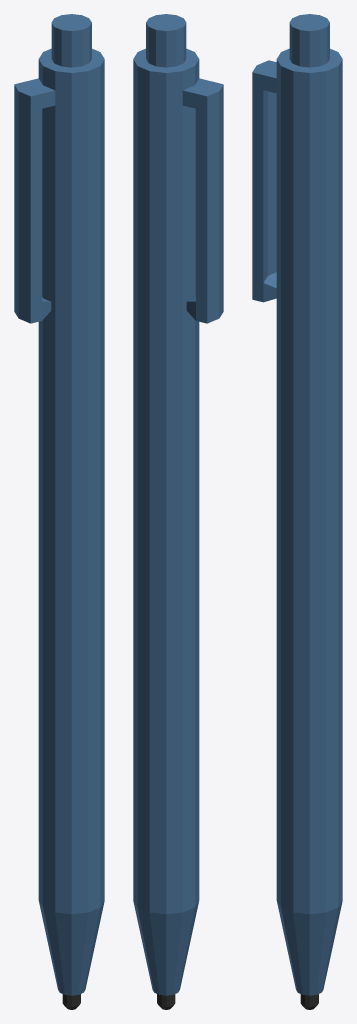
File: 69c91bc3-aab8-4af8-ae02-8dbe3d71ae62.glb
The picture shows the model from 3 angles, left to right: view 1: azimuth 30°, elevation 25°; view 2: azimuth 150°, elevation 25°; view 3: azimuth 330°, elevation 25°; orthographic projection.
Visible parts, largest first — view 1: Pen; view 2: Pen; view 3: Pen.
Boxes of the visible parts, bbox=[...] form: Pen: bbox=[14, 14, 104, 1009]; Pen: bbox=[133, 14, 223, 1009]; Pen: bbox=[252, 14, 342, 1009].
Size of the model in its own units: 4.5 by 51.77 by 3.15.
Materials: 1 (1 with a texture image).
